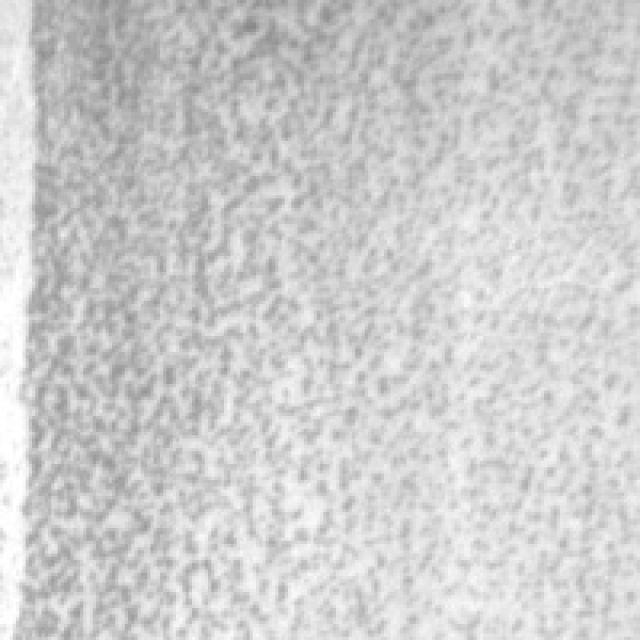pitted_surface: (29, 0, 637, 630)
